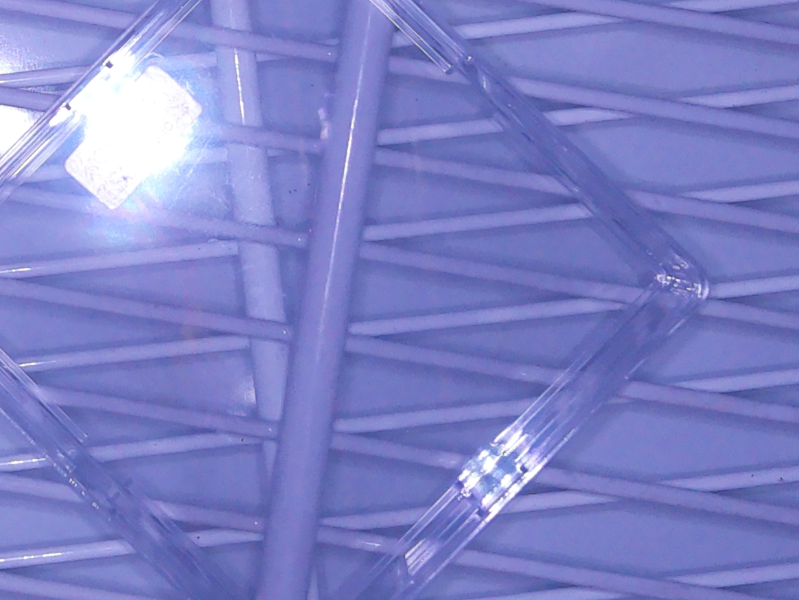plate: (1, 1, 709, 600)
